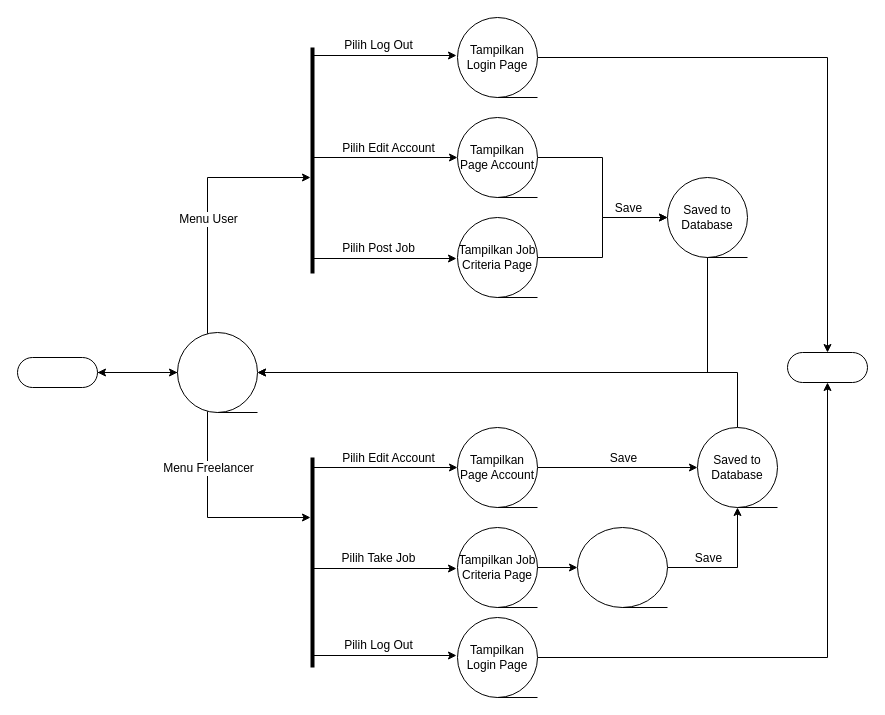
This 885x715 diagram has some shape labels left out. Here are the shapes that lost their labels. From the top down, the centre of each, then its label:
At pixel 217 372: "Main Page".
At pixel 622 567: "Tampilkan Hasil (Terima/Tidak)".
